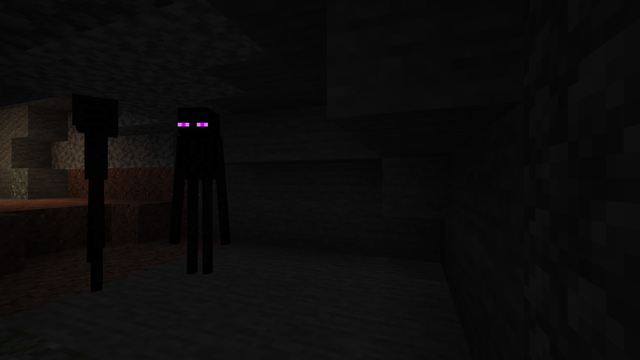endermens: (59, 86, 130, 298), (172, 99, 225, 280)
